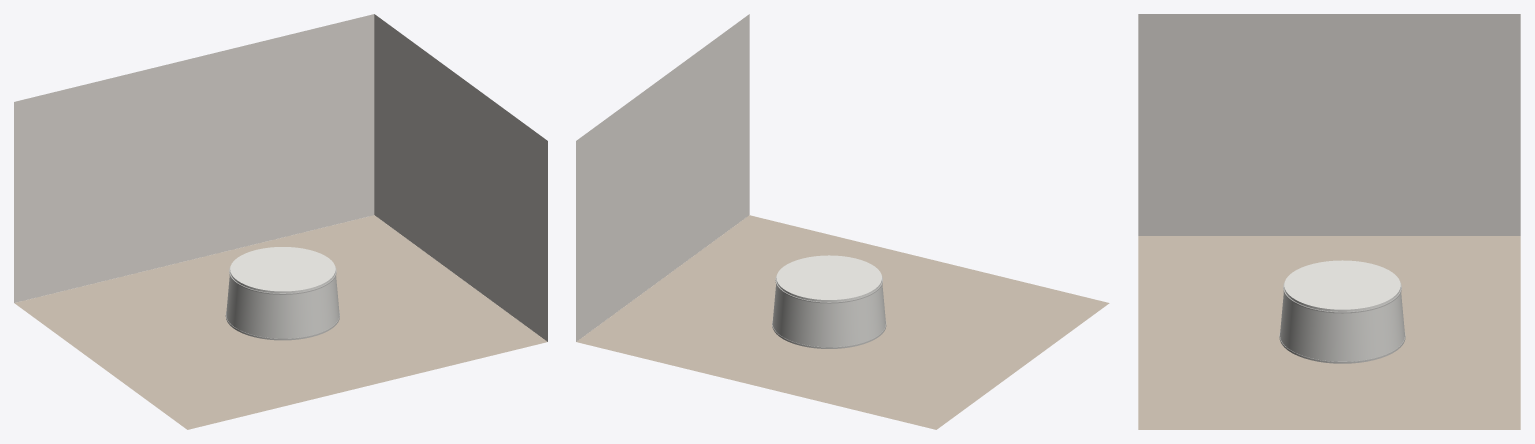
The model's file is mesa-redonda.glb.
3 renders of one model, left to right at view 1: azimuth 30°, elevation 25°; view 2: azimuth 150°, elevation 25°; view 3: azimuth 270°, elevation 25°, orthographic. The views are drawn at different scales.
Visible parts, largest first — view 1: sala, decoracion; view 2: sala, decoracion; view 3: sala, decoracion.
Boxes of the visible parts, x1,y1,x2,y2 form: sala: (14,14,547,429); decoracion: (225,247,339,340); sala: (576,14,1109,429); decoracion: (772,255,886,348); sala: (1138,14,1520,429); decoracion: (1279,260,1405,363).
Bounding box in the file's own units: 6 × 3.2 × 5.
